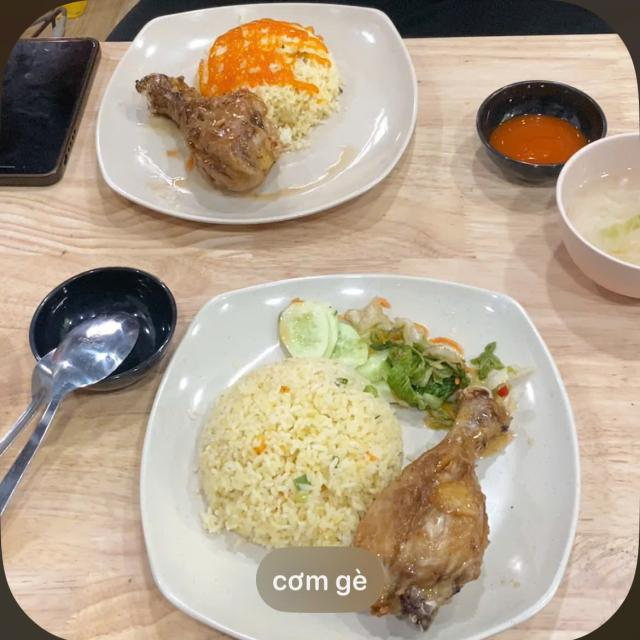ga_chien: (378, 394, 509, 610), (135, 72, 272, 186)
